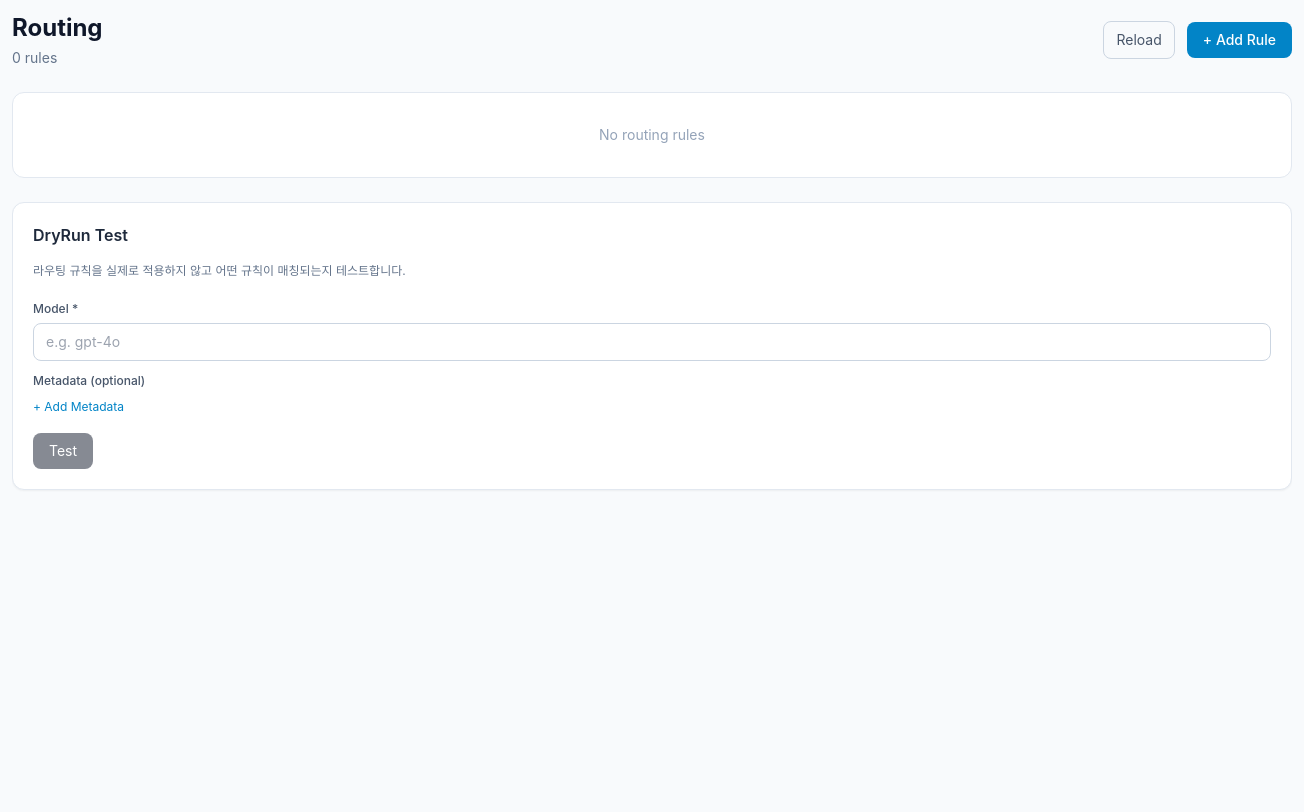
Test case: RoutingPage › TC-11: DryRun success — shows matched rule name and strategy
Type "gpt-4o" into the field with placeholder "e.g. gpt-4o".
click(652, 342); type("gpt-4o")  # box [33,323,1271,361]
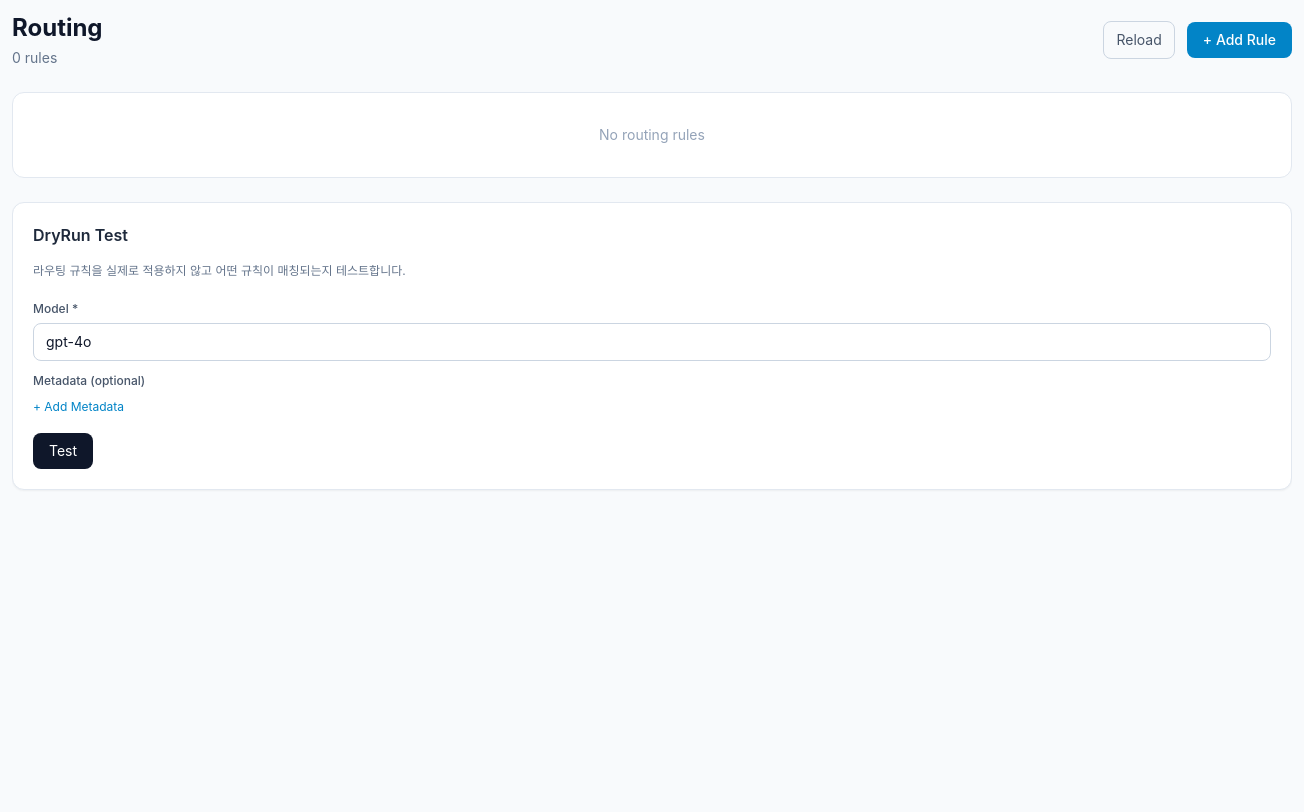
Click the button "Test".
click(63, 451)  # box [33,433,93,469]
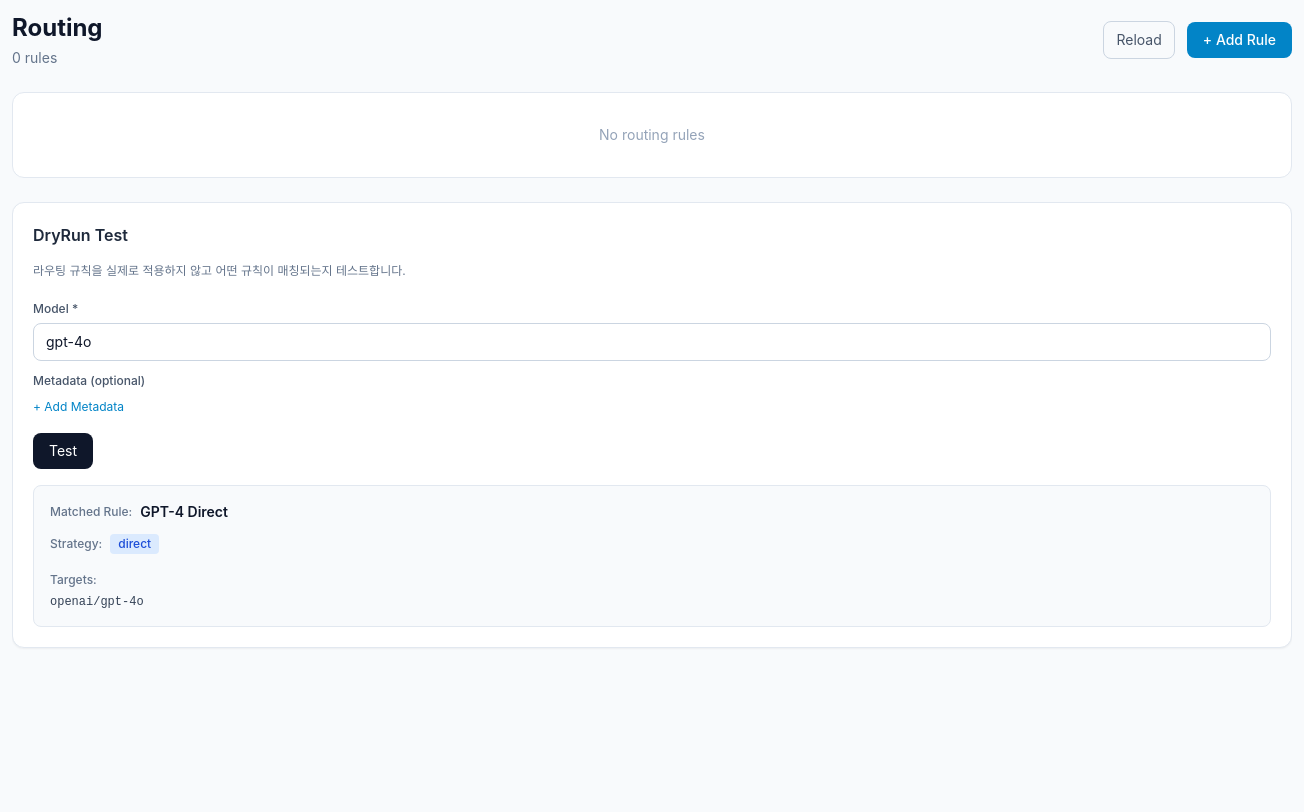
Now the text "GPT-4 Direct" is shown, box [140,502,228,522]
Now the text "direct" is shown, box [110,534,159,554]
